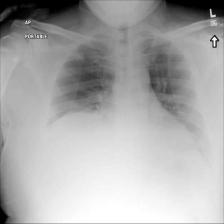normal: (45, 26, 205, 135)
